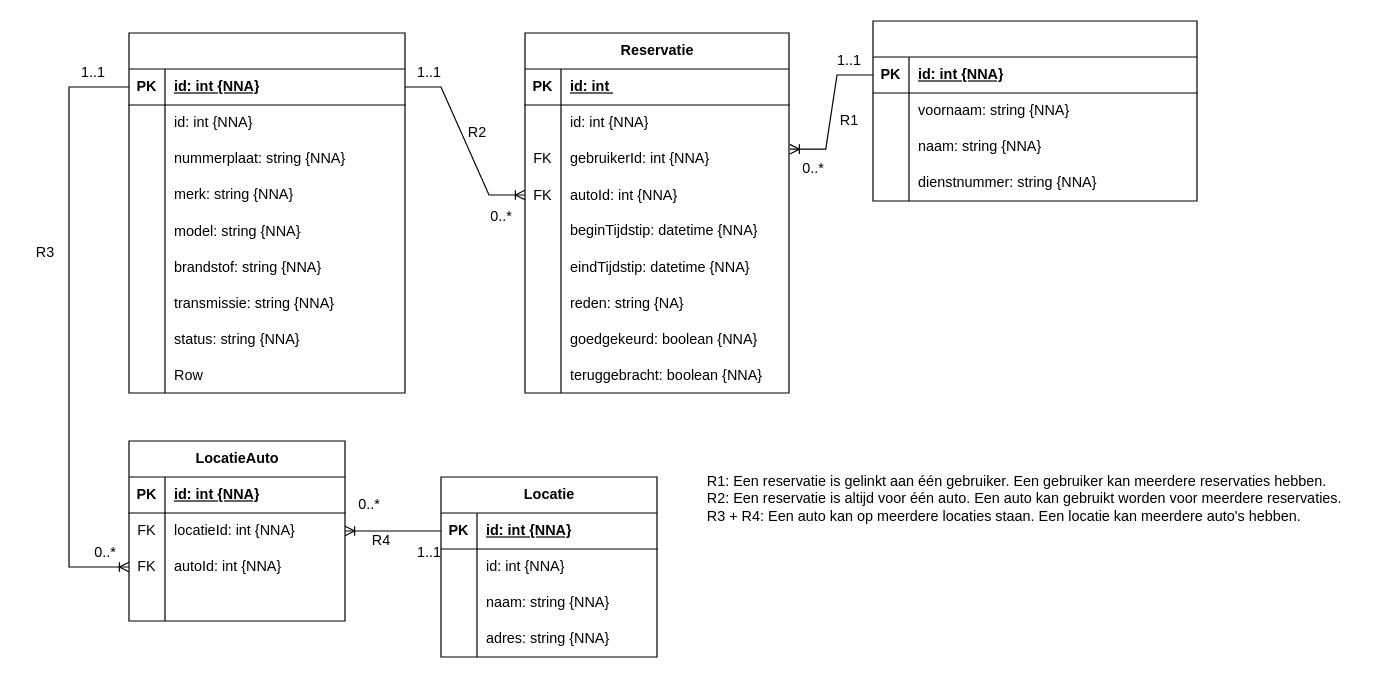
Image size: 1385x678. Some labels were removed from this diagram. Each missing label, with the box of its shape:
Auto: (128, 32, 405, 393)
Gebruiker: (872, 20, 1197, 201)
